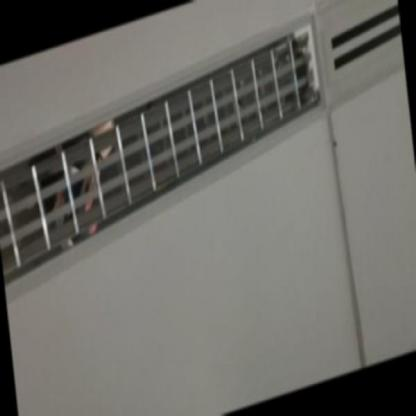light_off: (0, 3, 334, 295)
